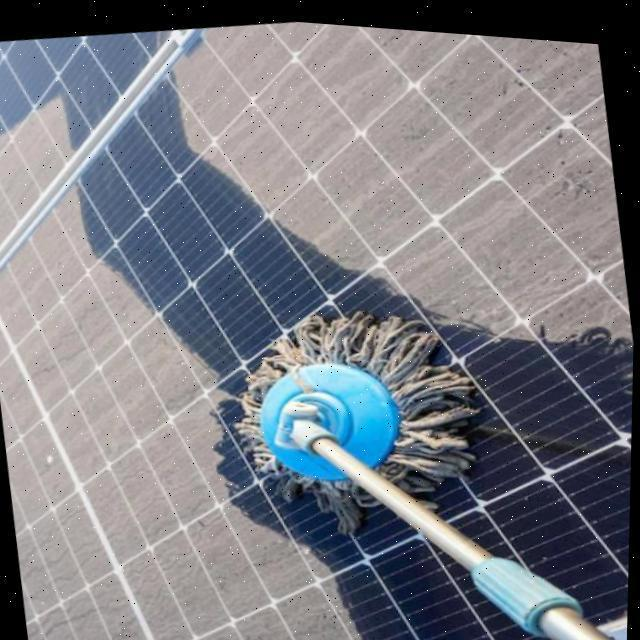Anomaly Solar Panel: (0, 0, 640, 640)
Surface Contaminant: (0, 182, 367, 640), (173, 17, 635, 344), (0, 90, 73, 250)
